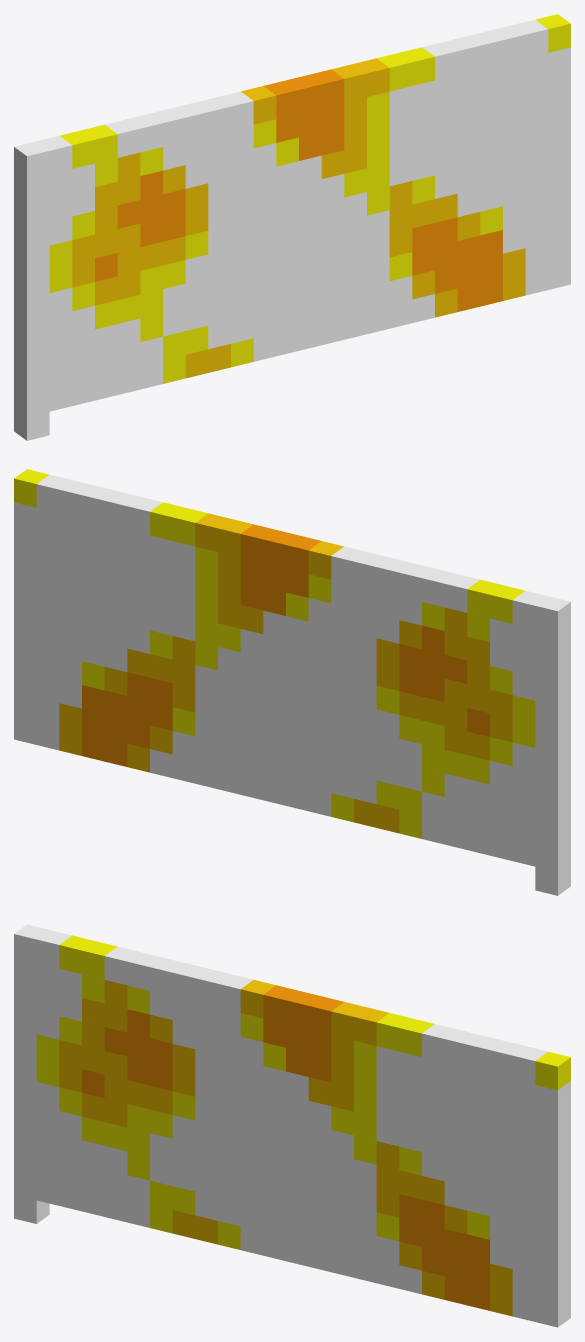
The model's file is lava_25_14.obj.
3 renders of one model, top to bottom at view 1: azimuth 30°, elevation 25°; view 2: azimuth 150°, elevation 25°; view 3: azimuth 330°, elevation 25°, orthographic.
Bounding box in the file's own units: 2.4 × 1.2 × 0.1.
1 material, 1 textured.
